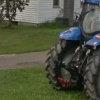Tractor: (38, 8, 100, 97)
